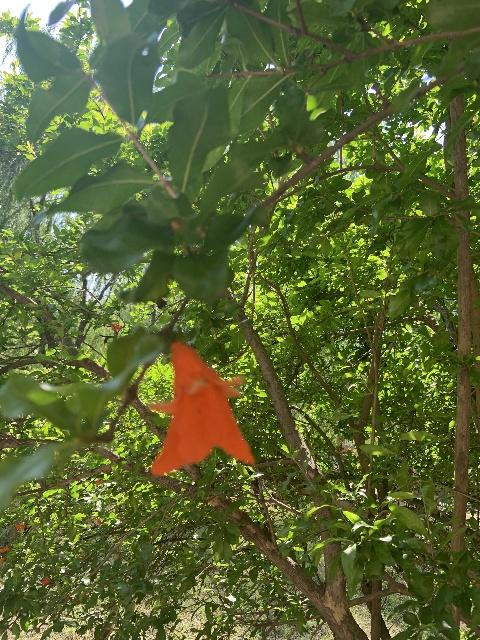bud: (96, 518, 101, 525)
flower: (149, 340, 255, 476), (0, 544, 8, 563), (15, 522, 26, 531), (111, 322, 121, 331), (42, 577, 50, 586), (95, 480, 102, 484)
